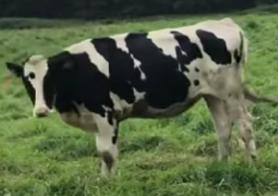cow: (7, 19, 259, 178)
